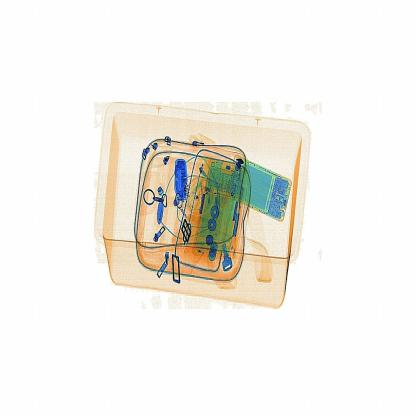scissors: (172, 152, 196, 206)
